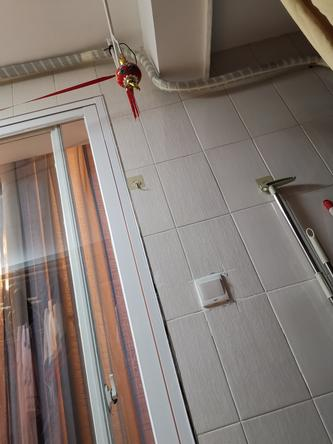switch: (189, 281, 227, 305)
